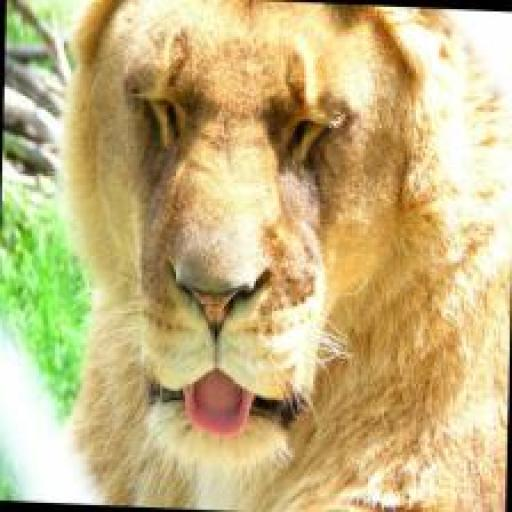lion: (29, 0, 512, 511)
